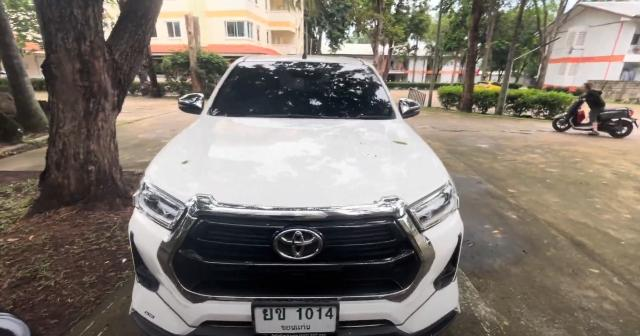pickup-truck: (126, 55, 465, 336)
